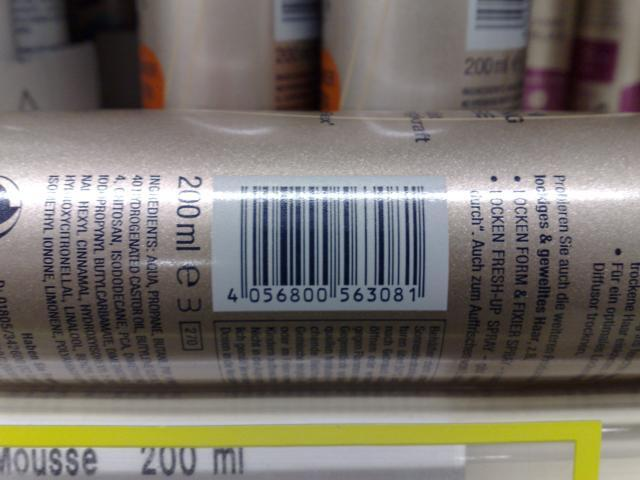Barcode: (212, 177, 450, 311)
